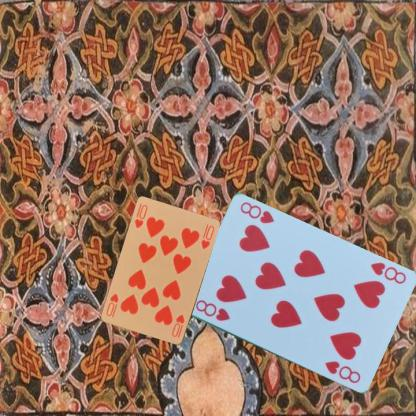10h: (169, 312, 186, 340), (132, 202, 149, 230)
8h: (367, 260, 408, 286), (193, 297, 231, 322)
